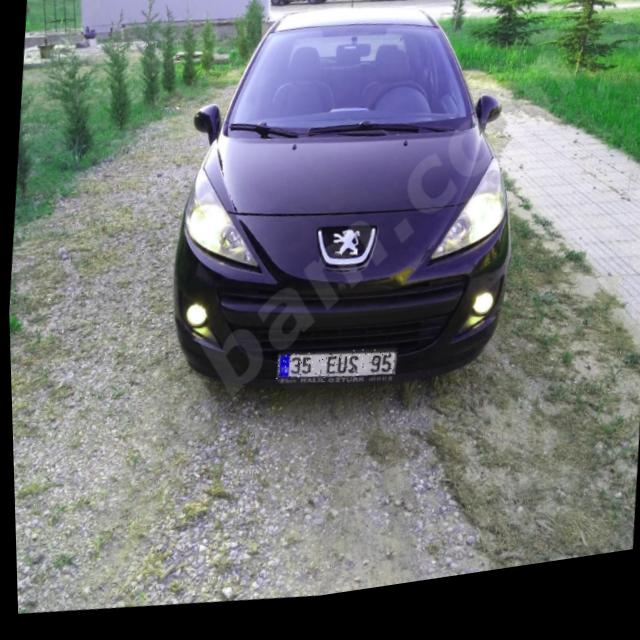license_plate: (272, 348, 395, 399)
